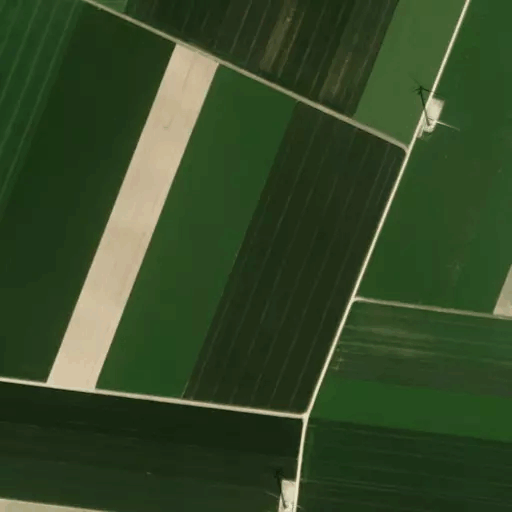wt: (400, 73, 461, 136), (255, 458, 314, 512)
